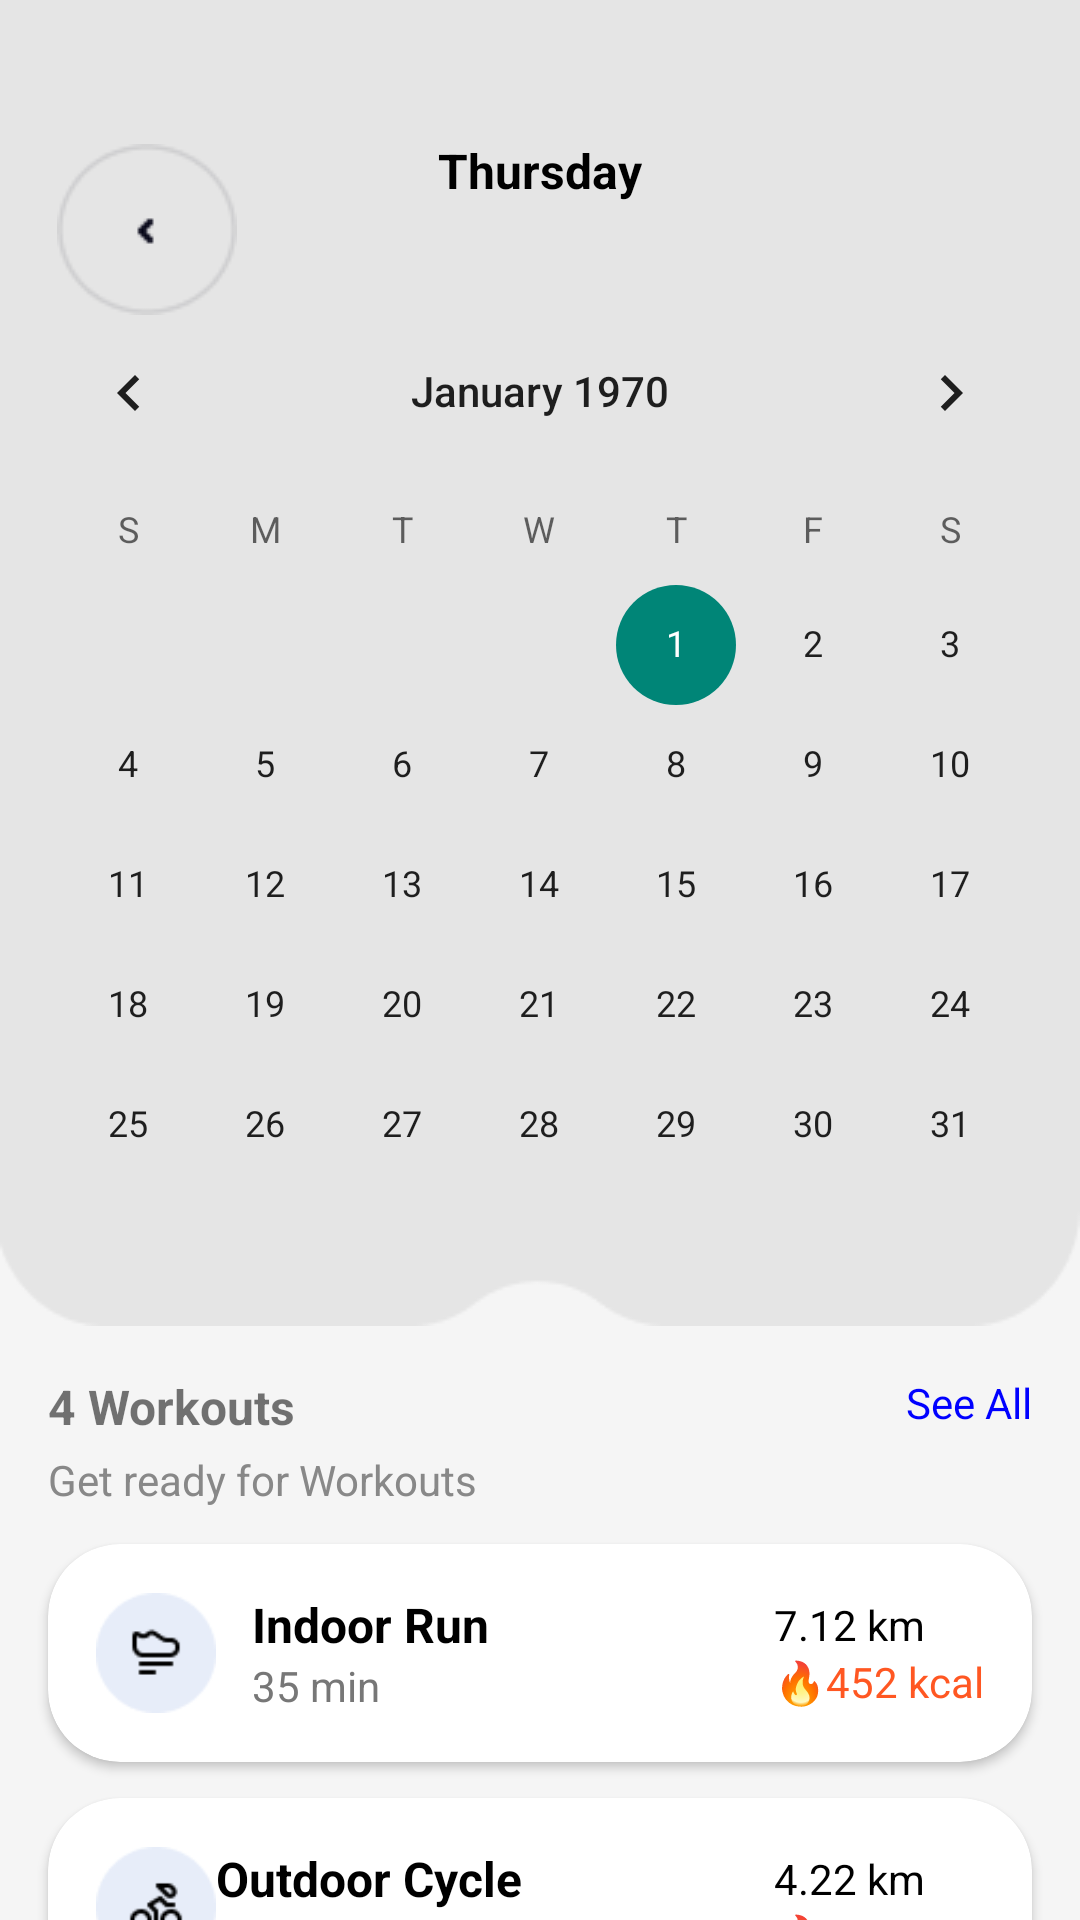

Point at icon controls on the screen. Image size 1080 × 1920, points as [x,y].
back: [145,231]
